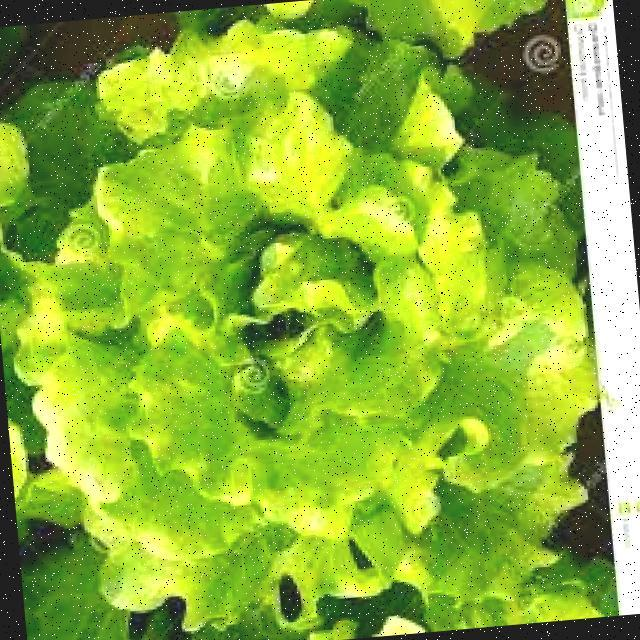Healthy: (1, 90, 497, 627)
